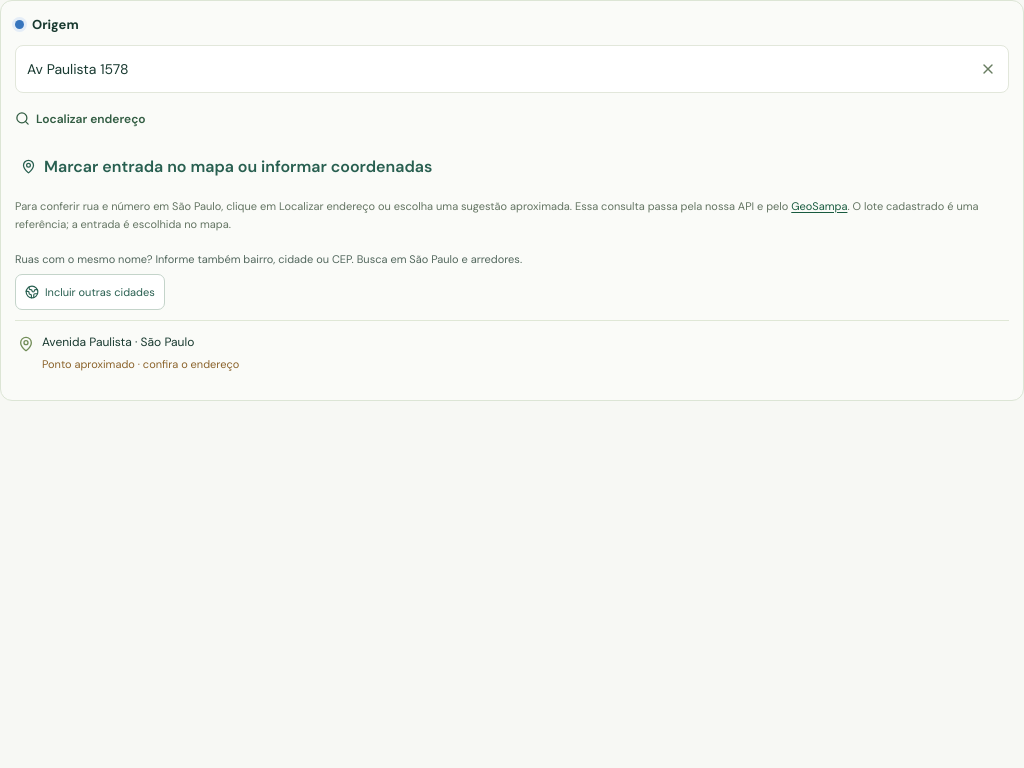
Test: confere o número ao escolher uma sugestão da rua e abre o lote, sem aceitar o centro da rua
What coordinates should you click on to do the following:
click the option "Avenida Paulista"
I would click on:
 (118, 342)
Its box is [15,321,1009,386].
Wait 1 ms
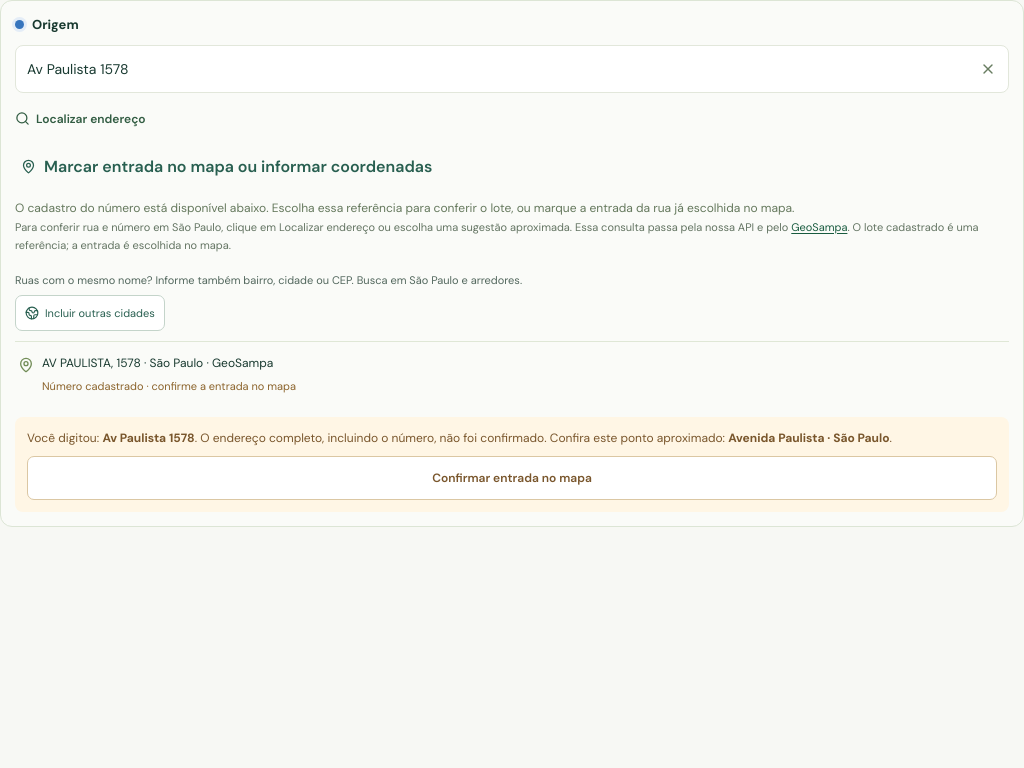
What coordinates should you click on to do the following:
click the option "GeoSampa"
I would click on:
 (158, 363)
Its box is [15,342,1009,407].
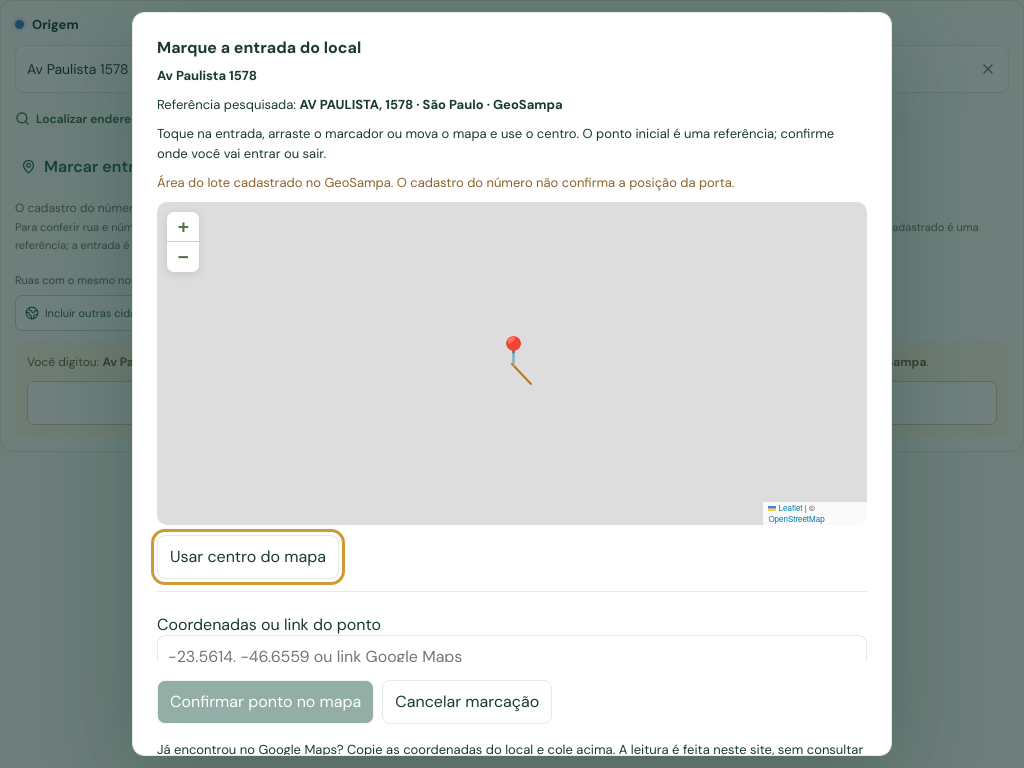
expect the text "Área do lote cadastrado" is shown: met, box [157,174,734,191]
